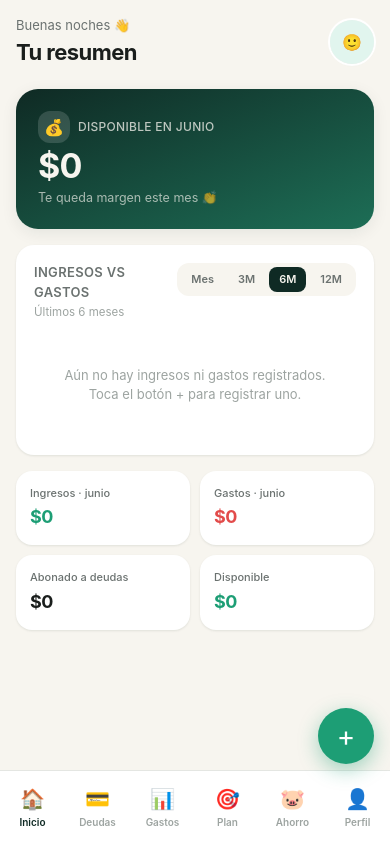
Test: App (smoke) › abre el modal de registro al tocar el FAB
The width and height of the screenshot is (390, 844).
Click the button named "Registrar movimiento". click: (346, 736)
box: [318,708,374,764]
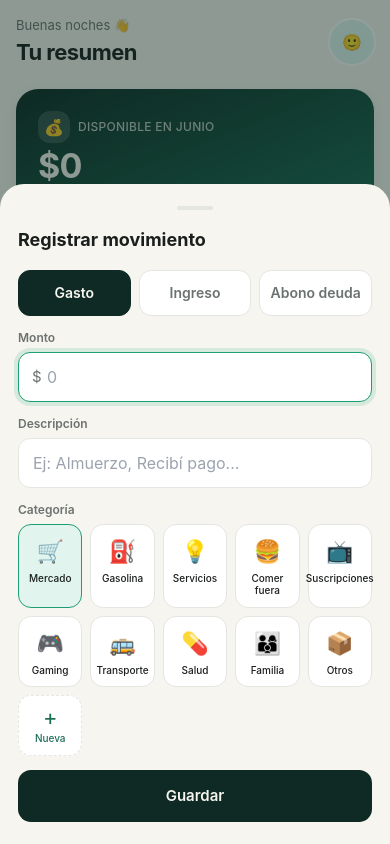
Check: the heading "Registrar movimiento" is shown, box [18,228,206,250]
Check: the text "Categoría" is shown, box [18,502,75,516]
